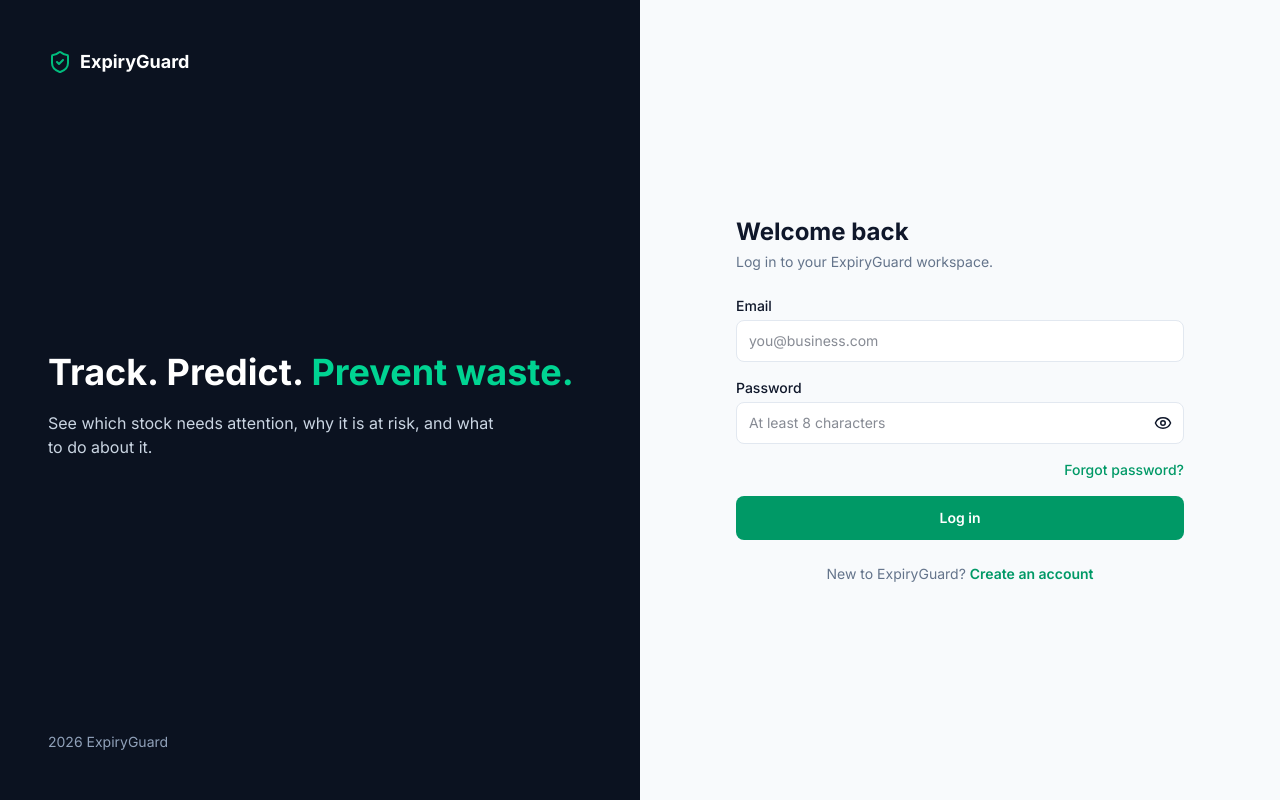
Test: LoginPage › shows errors when the form is empty
This screenshot has width=1280, height=800.
Click the button "Log in". click: (960, 518)
box: [736,496,1184,540]
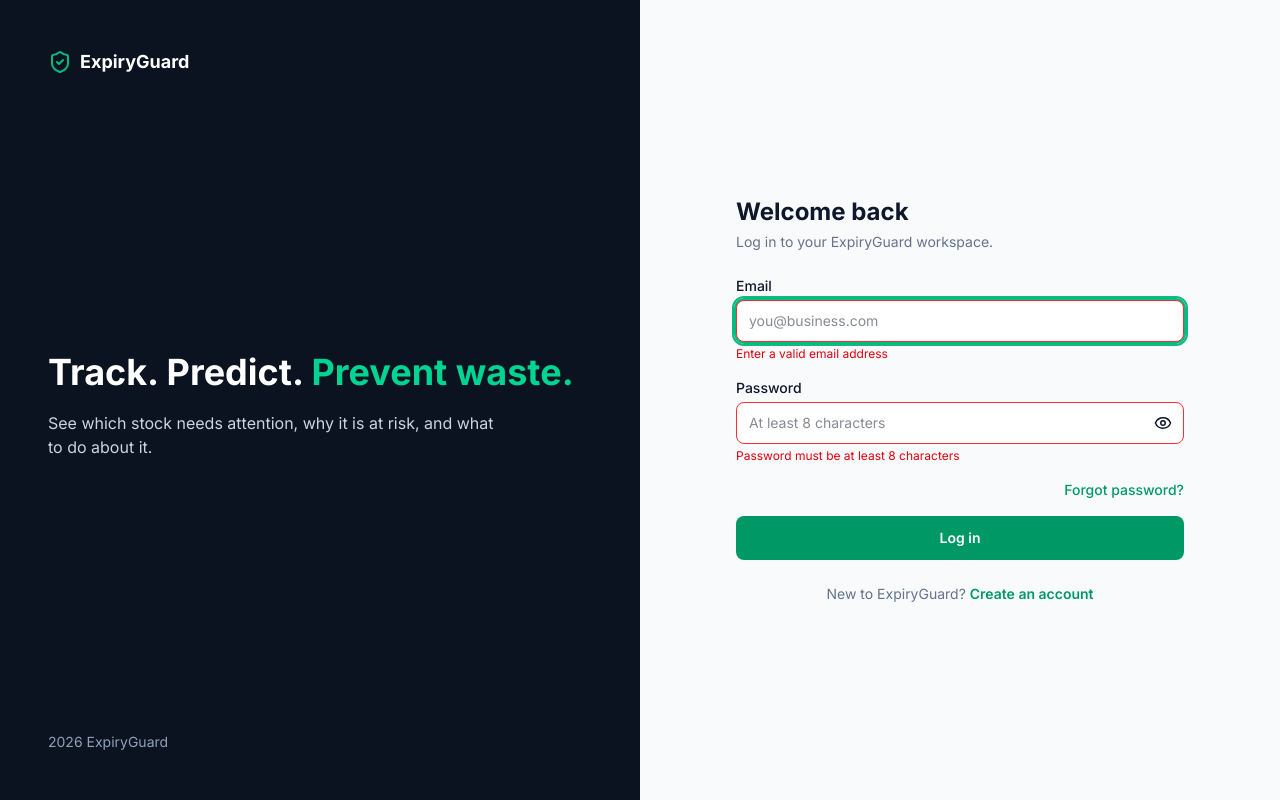
Expected: the text "Enter a valid email address" is shown, [736,346,888,361]
Expected: the text "Password must be at least 8 characters" is shown, [736,448,960,463]
